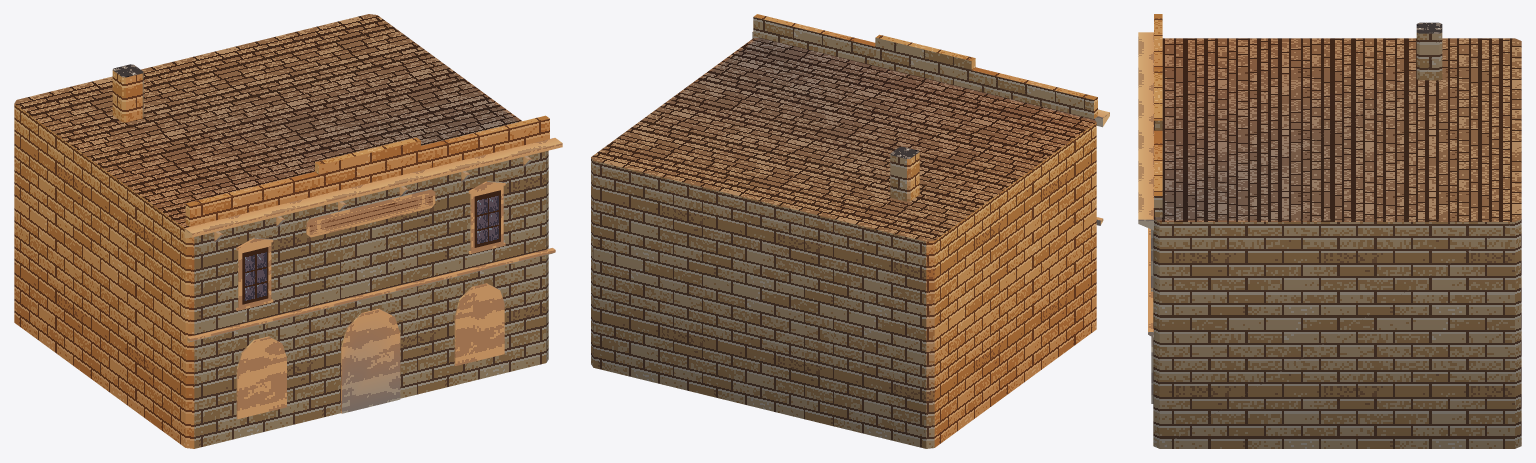
Rendered from wtown.bank__wide.glb.
The picture shows the model from 3 angles, left to right: view 1: azimuth 30°, elevation 25°; view 2: azimuth 150°, elevation 25°; view 3: azimuth 270°, elevation 25°; orthographic projection. The views are drawn at different scales.
Visible parts, largest first — view 1: kit_body, kit_trim, kit_windows, kit_card_panes, kit_chimney; view 2: kit_body, kit_trim, kit_chimney; view 3: kit_body, kit_trim, kit_chimney, kit_windows.
Part boxes in pixels (bbox=[...]): kit_body: bbox=[14, 14, 548, 448]; kit_trim: bbox=[184, 115, 562, 413]; kit_windows: bbox=[236, 181, 505, 419]; kit_card_panes: bbox=[242, 190, 500, 304]; kit_chimney: bbox=[112, 64, 143, 122]; kit_body: bbox=[591, 37, 1096, 448]; kit_trim: bbox=[752, 14, 1109, 225]; kit_chimney: bbox=[890, 146, 919, 201]; kit_body: bbox=[1153, 38, 1521, 448]; kit_trim: bbox=[1138, 14, 1162, 337]; kit_chimney: bbox=[1416, 22, 1442, 80]; kit_windows: bbox=[1151, 229, 1153, 403].
Bounding box in the file's own units: 12.04 × 8.2 × 10.4.
7 materials, 7 textured.
